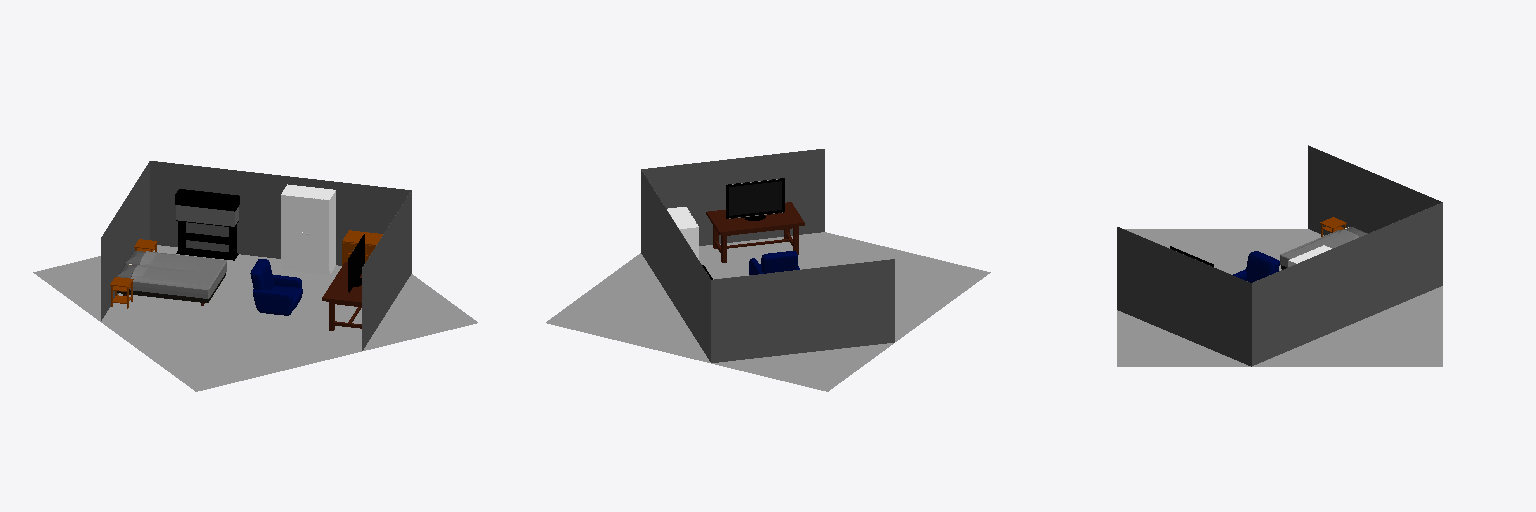
File: one.obj
3 views of the same model, side by side, from view 1: azimuth 30°, elevation 25°; view 2: azimuth 150°, elevation 25°; view 3: azimuth 270°, elevation 25° (orthographic).
Visible parts, largest first — view 1: ground_1, right_44, right_38, 8, right_5, Porte_1_33, Porte_34, Corps_30, sweethome3d_window_pane_93, Cube_2_82, Accoudoir_1_83, 85 (+2 smaller); view 2: ground_1, left_4, left_37, left_43, 67, Cube_2_82, Corps_30, 85; view 3: ground_1, left_43, right_38, right_5, 8, 85.
Boxes of the visible parts, <box> form: ground_1: <box>33,245,477,391</box>; right_44: <box>150,161,410,265</box>; right_38: <box>362,190,411,350</box>; 8: <box>130,251,226,298</box>; right_5: <box>101,162,149,320</box>; Porte_1_33: <box>305,197,329,270</box>; Porte_34: <box>281,195,304,267</box>; Corps_30: <box>281,184,335,275</box>; sweethome3d_window_pane_93: <box>176,205,238,226</box>; Cube_2_82: <box>322,262,361,305</box>; Accoudoir_1_83: <box>253,289,292,315</box>; 85: <box>250,259,302,310</box>; ground_1: <box>546,232,990,391</box>; left_4: <box>711,259,894,362</box>; left_37: <box>641,149,824,245</box>; left_43: <box>641,170,710,361</box>; 67: <box>729,181,781,215</box>; Cube_2_82: <box>706,202,804,234</box>; Corps_30: <box>667,207,698,259</box>; 85: <box>760,251,797,273</box>; ground_1: <box>1117,229,1442,366</box>; left_43: <box>1252,202,1442,365</box>; right_38: <box>1117,227,1251,366</box>; right_5: <box>1308,146,1441,235</box>; 8: <box>1280,229,1358,267</box>; 85: <box>1246,251,1279,282</box>.
Bounding box in the file's own units: 648 × 183 × 648.